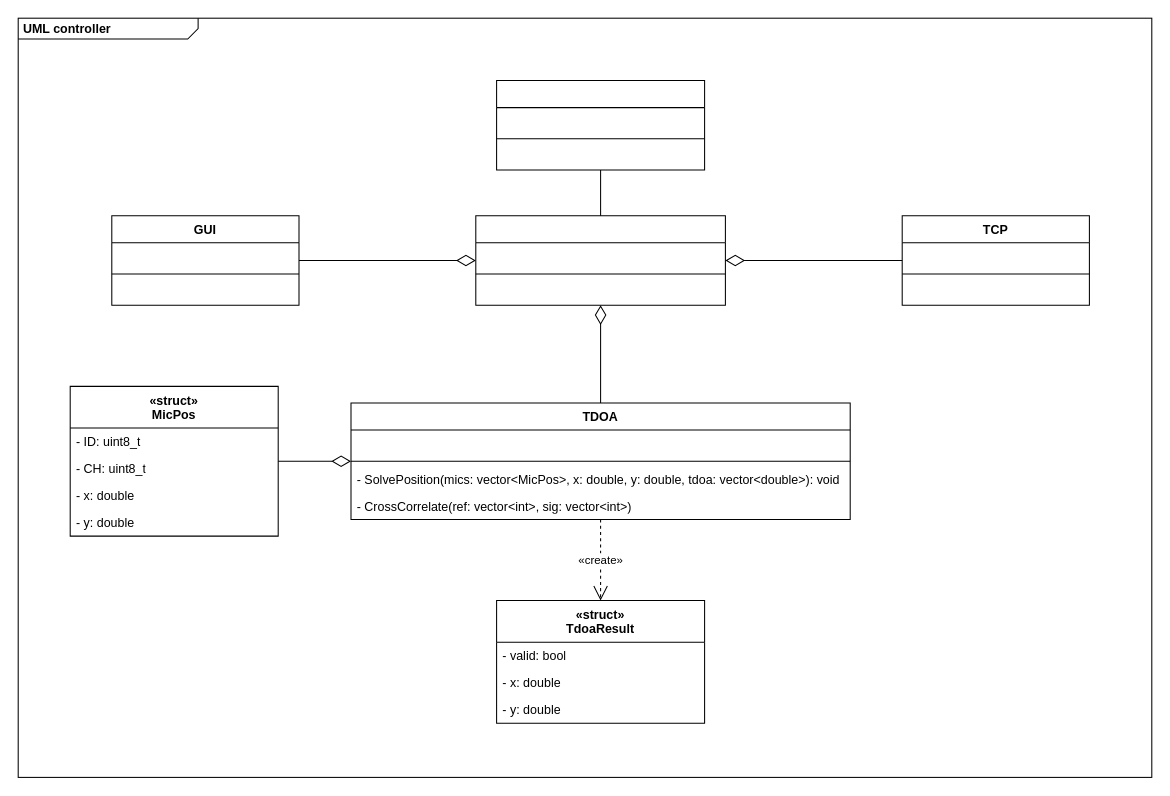
The diagram is 1170 pixels wide and 796 high, and some of its shapes have lost their labels. Here are the shapes that lost their labels. From the top down, the centre of each, then its label:
At (x=600, y=125): "Atlas".
At (x=600, y=260): "Orchestrator".
